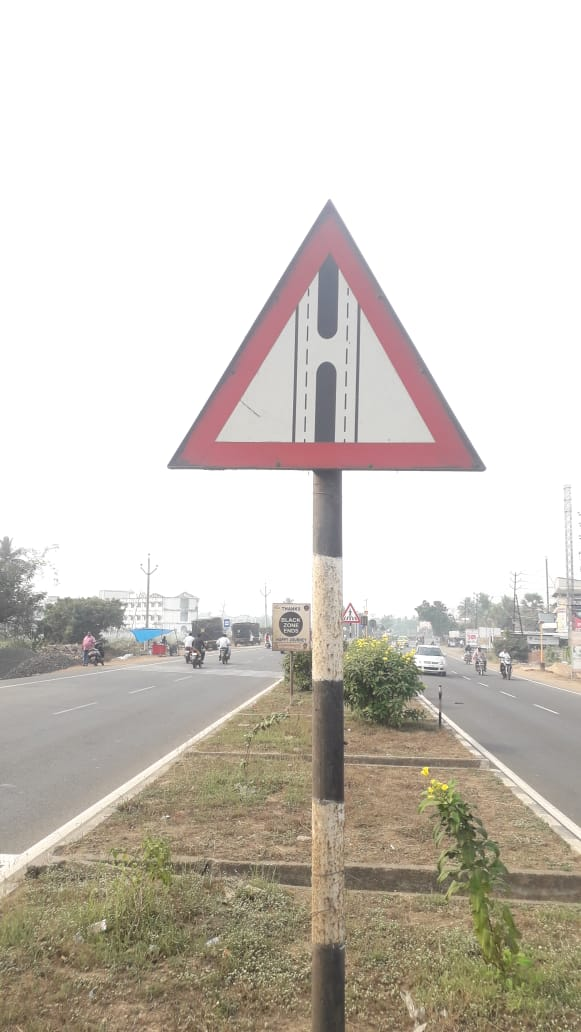highway go straight: (161, 188, 513, 506)
